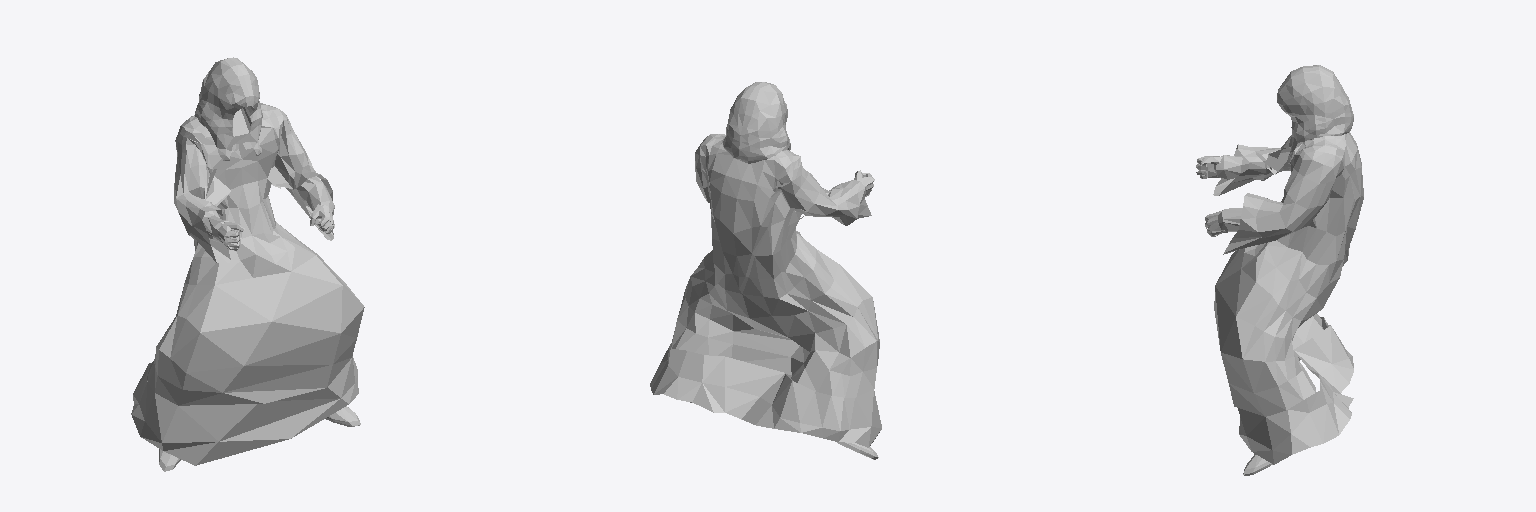
File: Rider_Animate_Grab_Glide_12.obj
3 renders of one model, left to right at view 1: azimuth 30°, elevation 25°; view 2: azimuth 150°, elevation 25°; view 3: azimuth 270°, elevation 25°, orthographic.
Parts seen in each view (by area): view 1: dm_nazgulrobe_ride_241108; view 2: dm_nazgulrobe_ride_241108; view 3: dm_nazgulrobe_ride_241108.
Part boxes in pixels (bbox=[...]): dm_nazgulrobe_ride_241108: bbox=[131, 57, 364, 471]; dm_nazgulrobe_ride_241108: bbox=[650, 82, 881, 459]; dm_nazgulrobe_ride_241108: bbox=[1196, 65, 1363, 475].
Size of the model in its own units: 0.4076 by 0.668 by 0.2748.